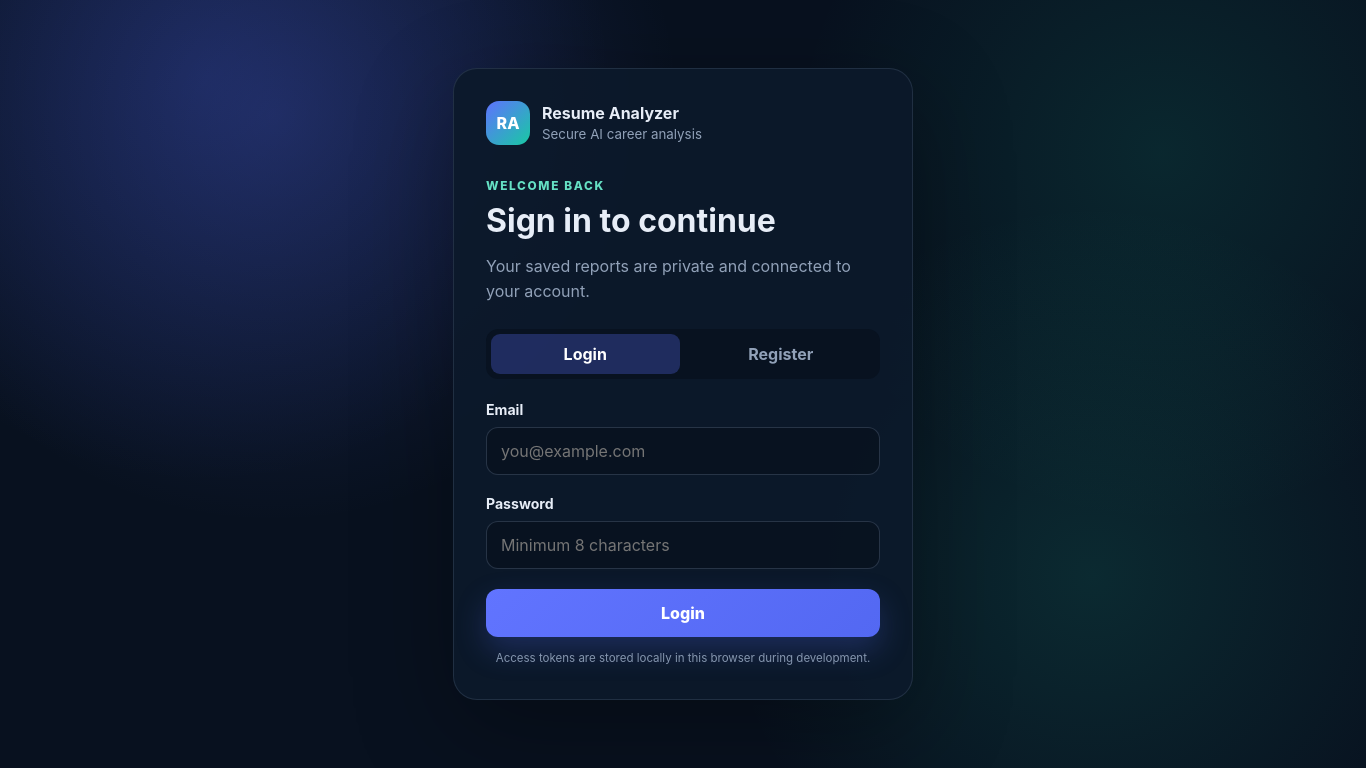
Test: shows validation error for short password
This screenshot has width=1366, height=768.
Type "test@example.com" into the field labelled "Email" at (683, 451), box [486,427,880,475]
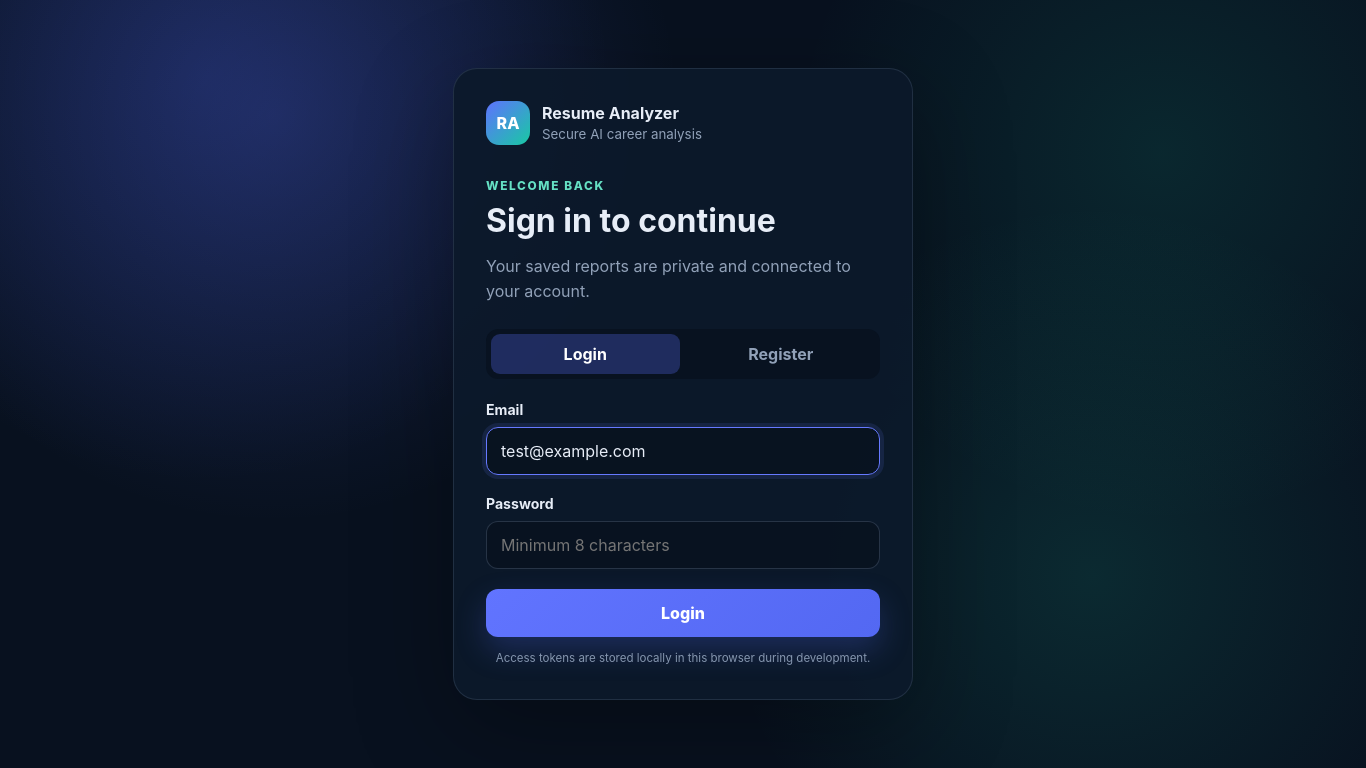
Type "short" into the password field labelled "Password" at (683, 545), box [486,521,880,569]
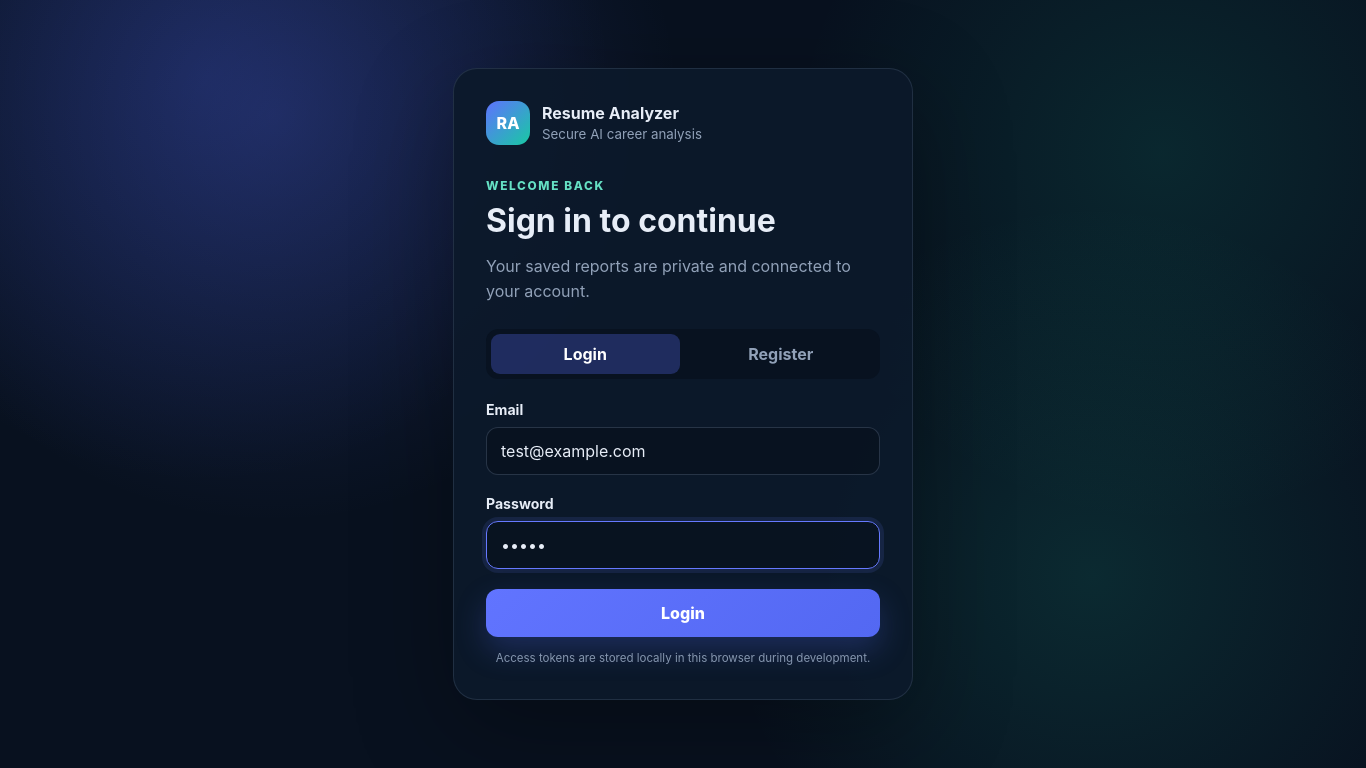
Click the button "Login" at (683, 613), box [486,589,880,637]
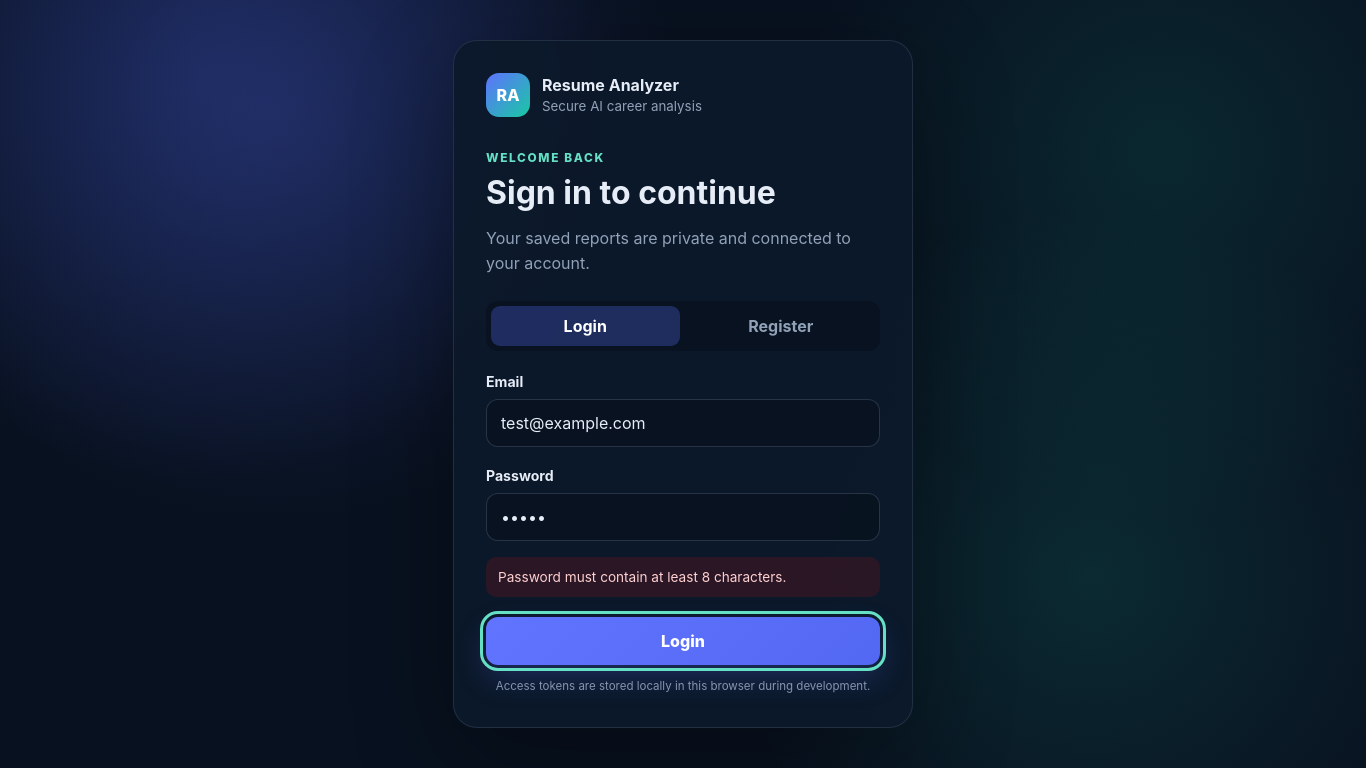
Result: the message reads "Password must contain at least 8 characters." at [498,569,786,585]
